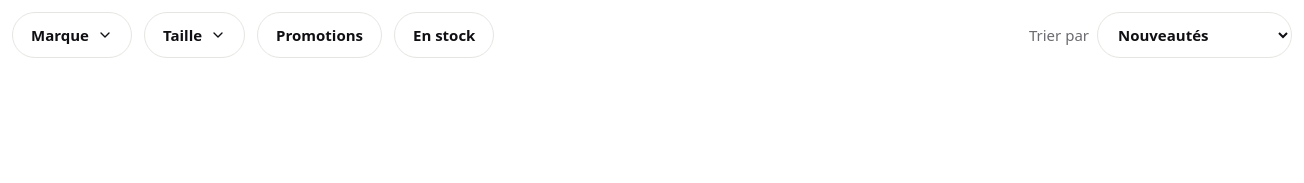
Test: FiltresBarre — barre › n’ouvre qu’un panneau à la fois
This screenshot has width=1304, height=183.
Click the button with test id "bouton-marques" at (72, 35), box [12,12,132,58]
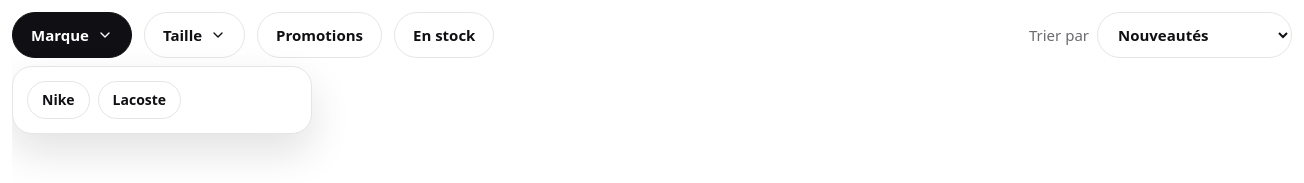
Click the button with test id "bouton-tailles" at (194, 35), box [144,12,245,58]
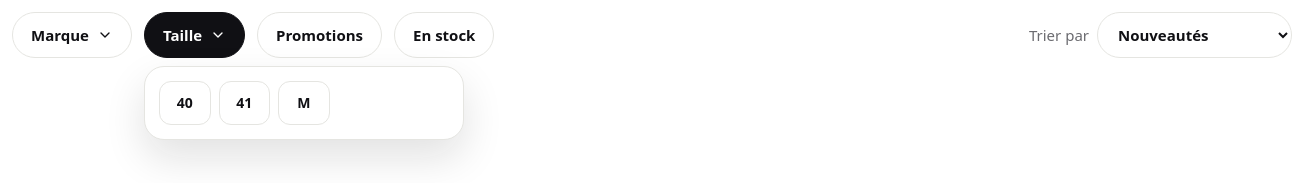
Check: the element with test id "panneau-marques" is gone
Check: the element with test id "panneau-tailles" is shown, box [144,66,464,140]
Check: the button with test id "filtre-taille-41" is shown, box [218,81,270,125]
